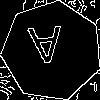A: (26, 26, 65, 74)
